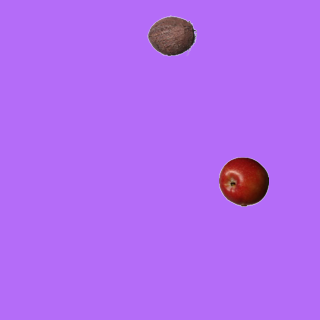Apple Braeburn: (218, 156, 268, 206)
Cocos: (146, 10, 196, 60)
